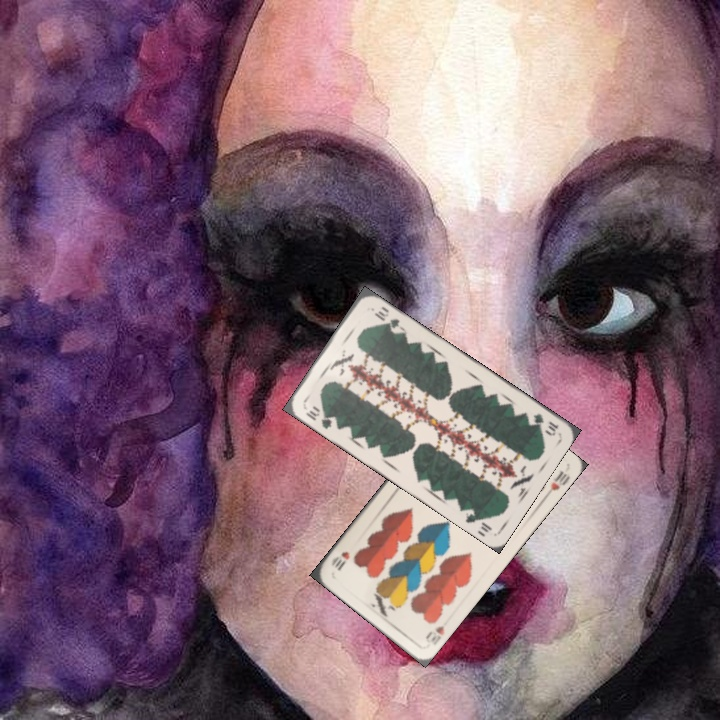G10: (301, 401, 340, 432), (529, 409, 561, 438)
H10: (421, 621, 447, 648)
